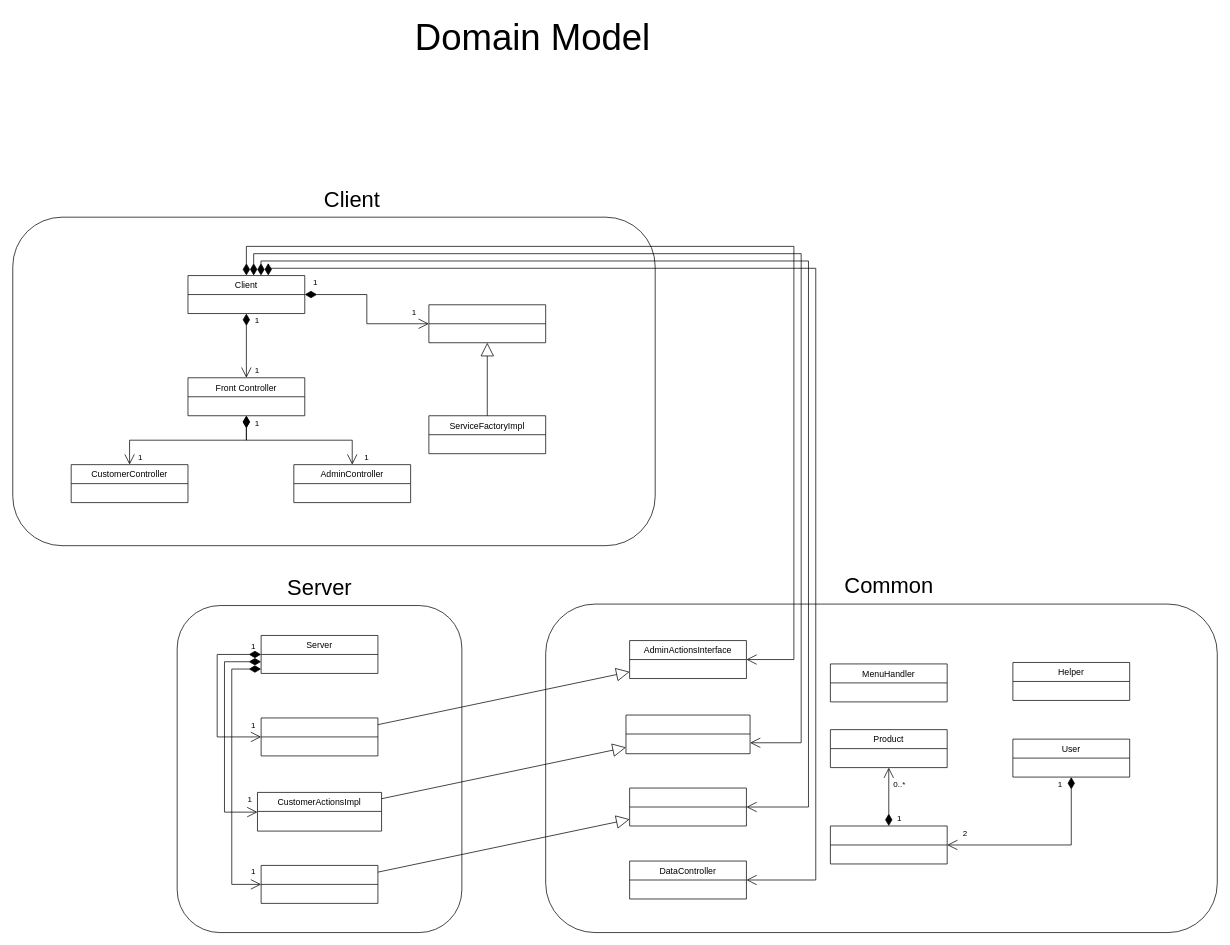
This 1230x945 diagram has some shape labels left out. Each missing label, with the box of its shape:
AdminActionsImpl: (260, 717, 378, 756)
Authorization: (629, 787, 746, 826)
AuthorizationImpl: (260, 865, 378, 903)
CustomerActionsInterface: (625, 714, 750, 754)
Products: (830, 825, 947, 864)
ServiceFactoryInterface: (428, 304, 546, 343)
